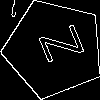Z: (29, 24, 85, 69)
